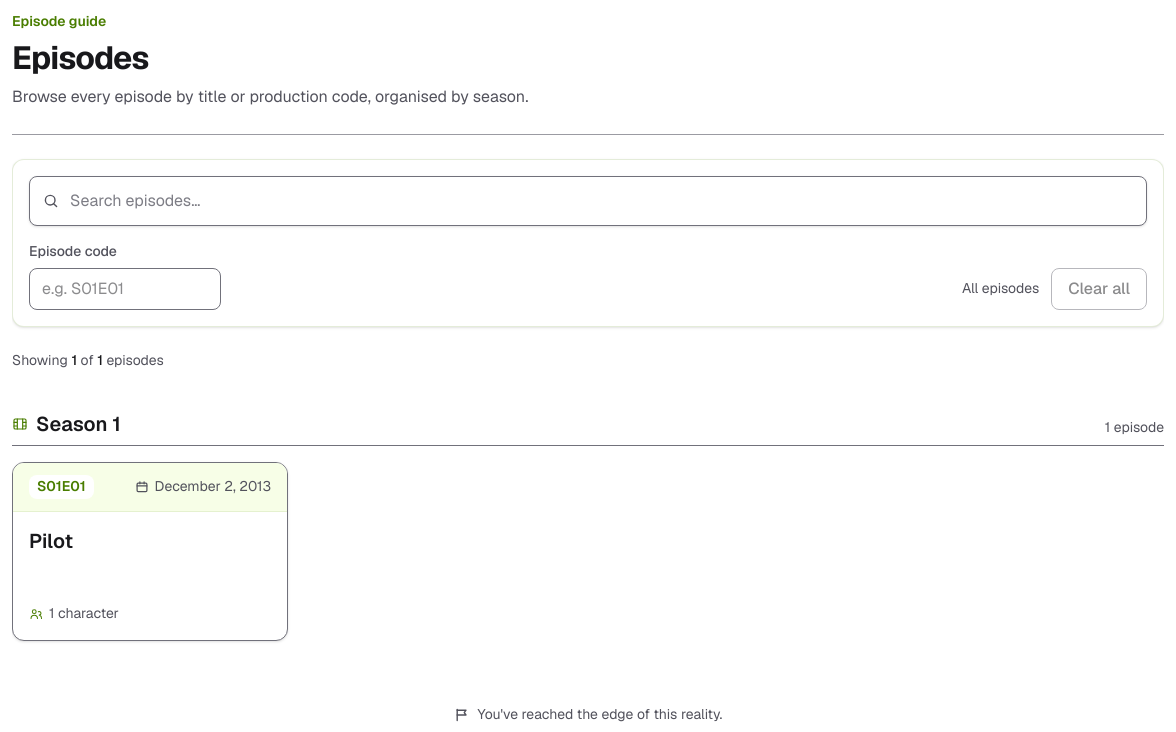
Scenario: EpisodeBrowser (integration: filter bar + results + GraphQL layer) › shows an empty state with a working clear-filters action
In the search field with placeholder "Search episodes…": (588, 201) [29,176,1147,226], type "nonexistent"
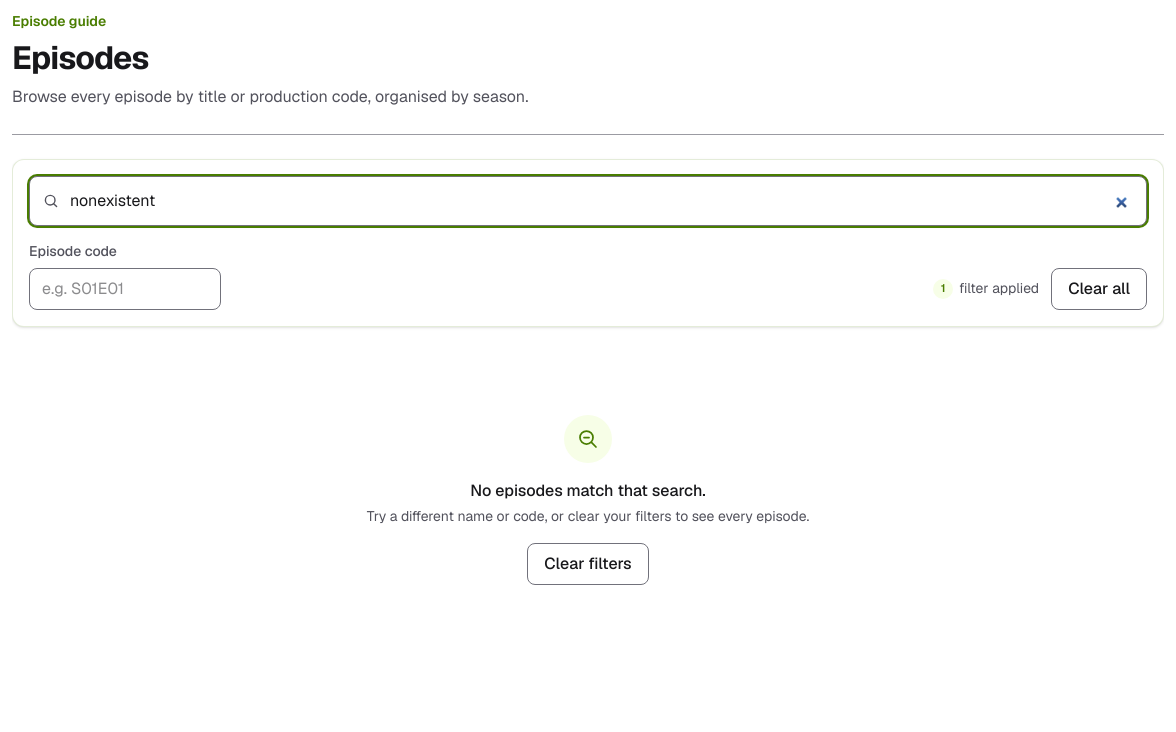
Check: the text "No episodes match that search." is shown, box [470,480,706,501]
Click the button "Clear filters": click(588, 564) [527,543,649,585]
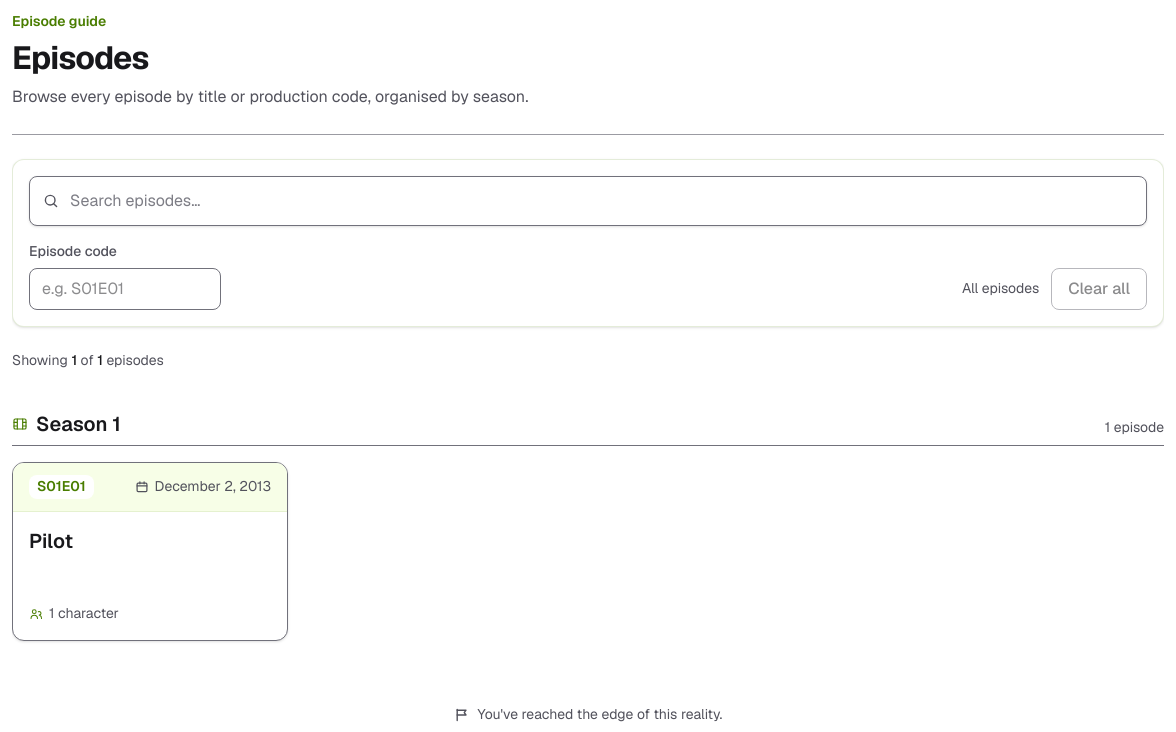
Check: the heading "Pilot" is shown, box [29,528,73,554]
